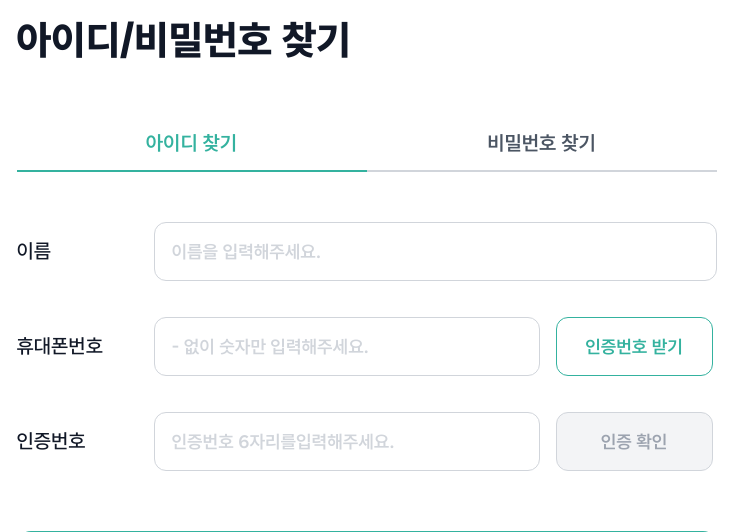
Test case: AccountRecoveryPage › switches between recovery modes and renders enabled recovery actions
The width and height of the screenshot is (734, 532).
Expected: the heading "아이디/비밀번호 찾기" is shown, [16,16,351,64]
Click the tab "비밀번호 찾기": (542, 143) [366,114,716,172]
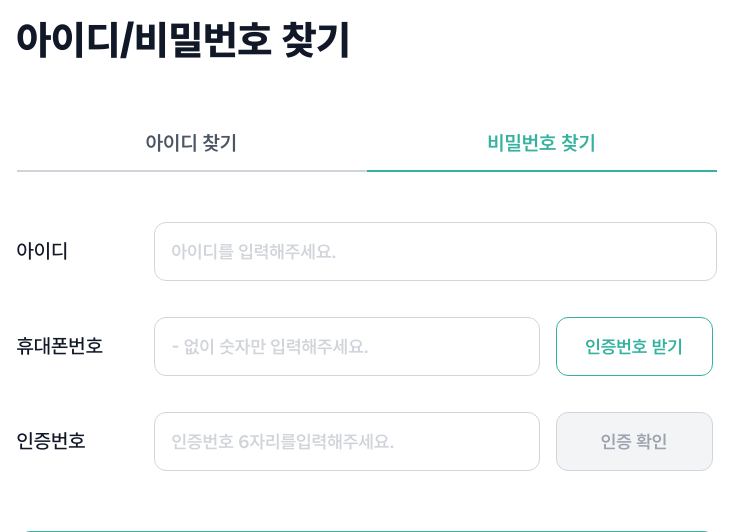
Expected: the button "인증번호 받기" is enabled, [556,317,712,376]
Now the field labelled "아이디" is shown, box [154,222,716,281]
